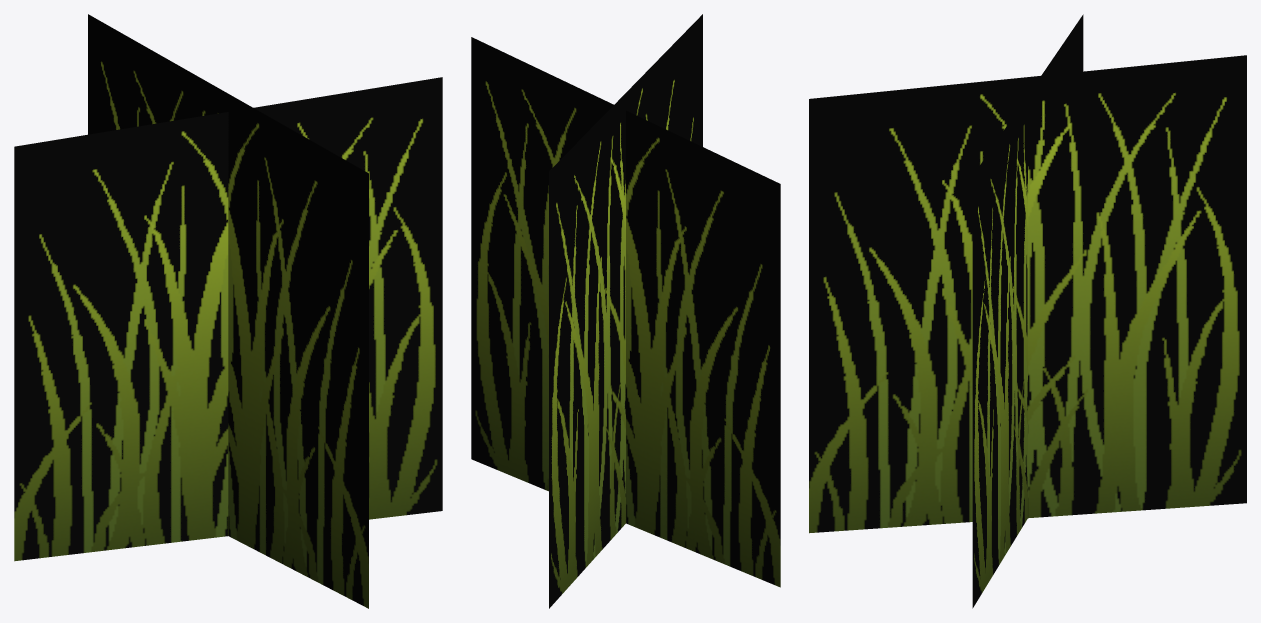
The model's file is Grass1.glb.
3 renders of one model, left to right at view 1: azimuth 30°, elevation 25°; view 2: azimuth 150°, elevation 25°; view 3: azimuth 270°, elevation 25°, orthographic. The views are drawn at different scales.
Parts seen in each view (by area): view 1: Type_3-Grass_1_LOD0; view 2: Type_3-Grass_1_LOD0; view 3: Type_3-Grass_1_LOD0.
Boxes of the visible parts, left/top/right/bottom form: Type_3-Grass_1_LOD0: left=14, top=14, right=442, bottom=608; Type_3-Grass_1_LOD0: left=471, top=14, right=780, bottom=608; Type_3-Grass_1_LOD0: left=809, top=14, right=1246, bottom=608.
Bounding box in the file's own units: 0.7196 × 0.8282 × 0.7336.
1 material, 1 textured.
